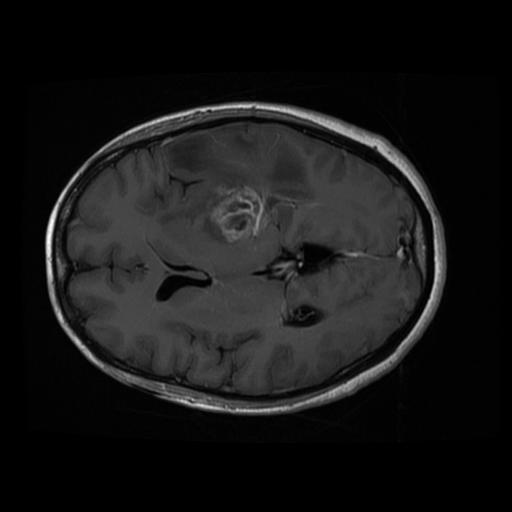glioma: (203, 180, 265, 246)
